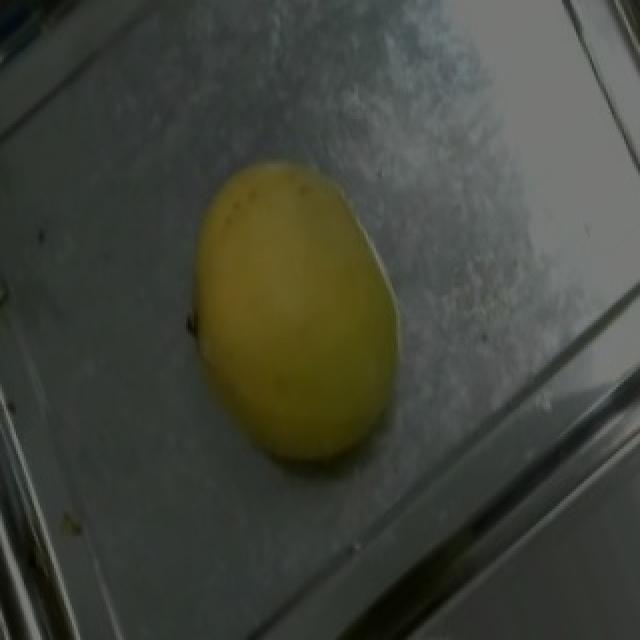fruit: (150, 121, 482, 508)
